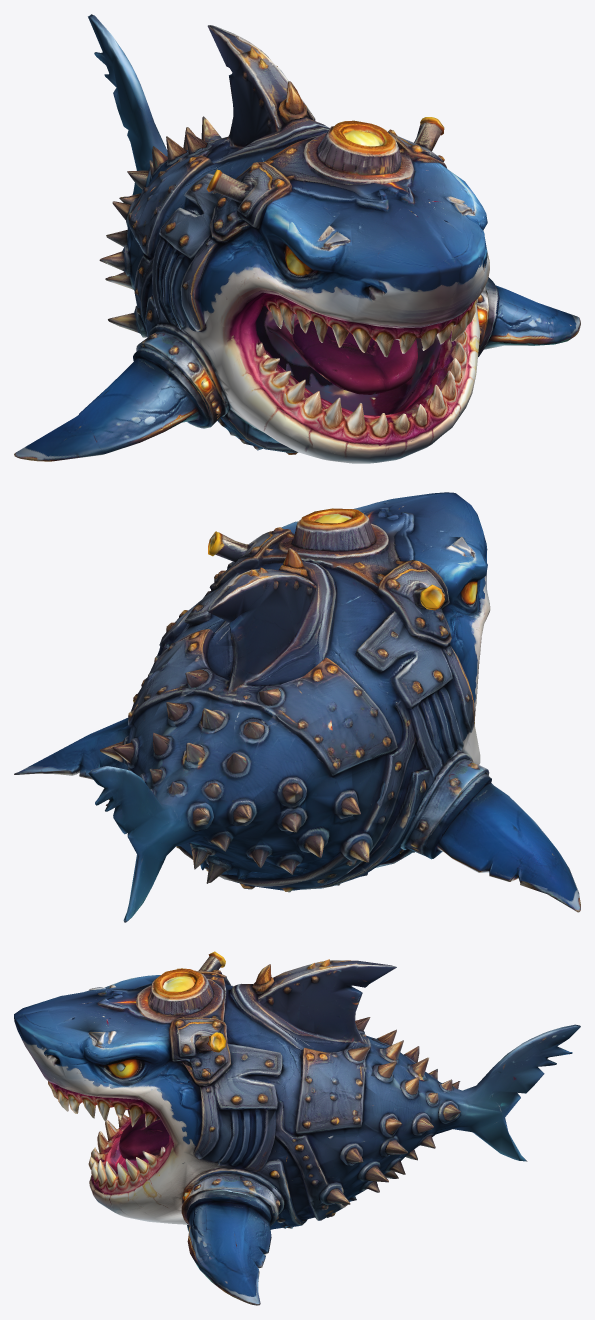
The model's file is Shark Yaws.glb.
The picture shows the model from 3 angles, top to bottom: view 1: azimuth 30°, elevation 25°; view 2: azimuth 150°, elevation 25°; view 3: azimuth 270°, elevation 25°; orthographic projection. The views are drawn at different scales.
Bounding box in the file's own units: 1.7 × 1.03 × 1.9.
1 material, 1 textured.
